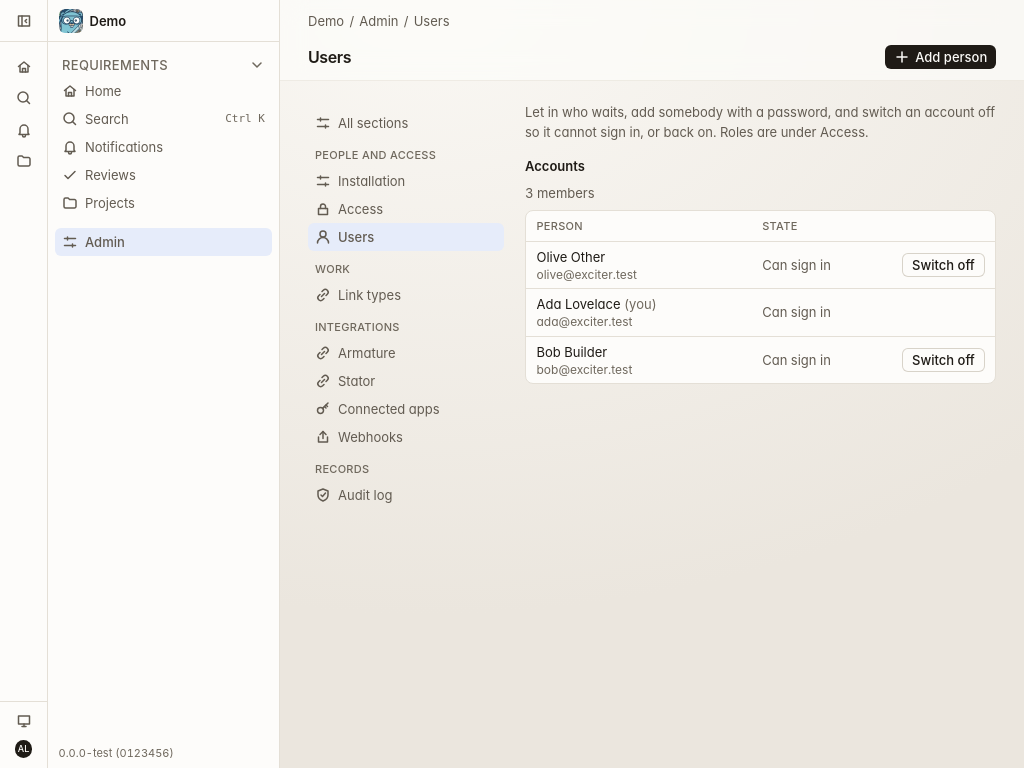
Test case: the Users page › shows why switching off was refused inside the question
Click the button with aria-label "Switch Bob Builder off". click: (943, 360)
box: [902,348,984,372]
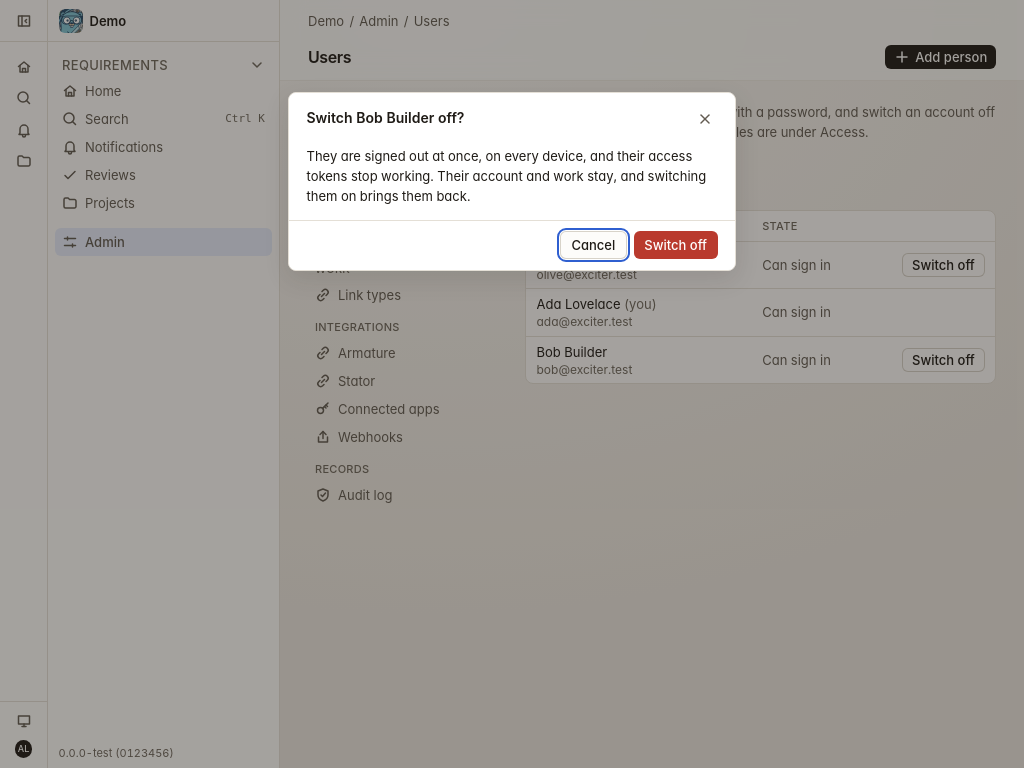
Click the button "Switch off". click: (676, 245)
box: [634,231,718,259]
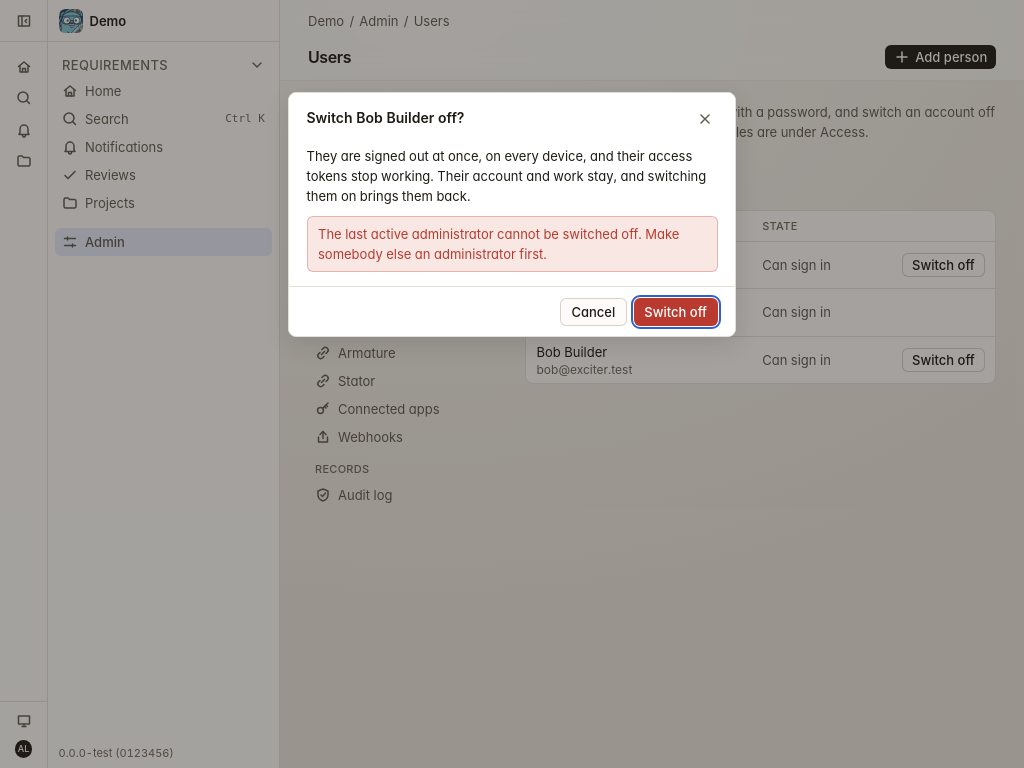
Check: the message shows "Make somebody else an administrator first.", box [318,226,679,262]
